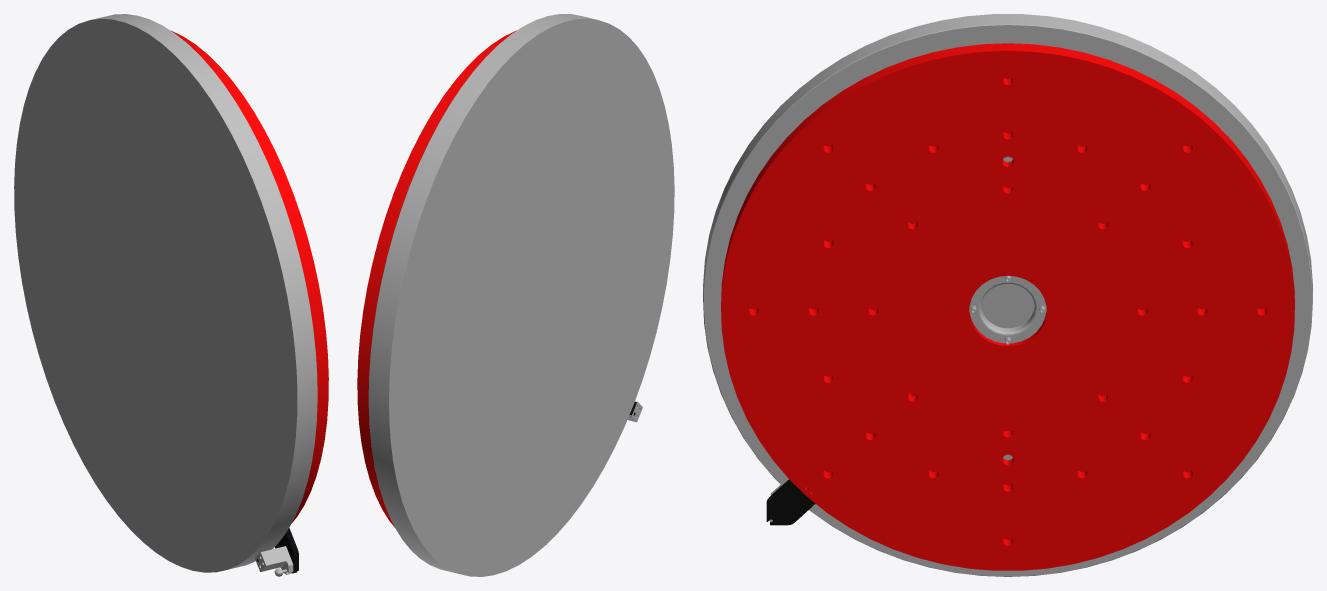
The model's file is Driver_Faceplate_P3.dae.
3 views of the same model, side by side, from view 1: azimuth 30°, elevation 25°; view 2: azimuth 150°, elevation 25°; view 3: azimuth 270°, elevation 25° (orthographic). The views are drawn at different scales.
Parts seen in each view (by area): view 1: Node_0000018E1A3D43C0 (×3); view 2: Node_0000018E1A3D43C0 (×2); view 3: Node_0000018E1A3D43C0 (×3).
Part boxes in pixels (left/top/right/bottom): Node_0000018E1A3D43C0 (×3): left=14, top=14, right=328, bottom=576; Node_0000018E1A3D43C0 (×2): left=357, top=14, right=674, bottom=576; Node_0000018E1A3D43C0 (×3): left=703, top=14, right=1312, bottom=576.
Bounding box in the file's own units: 0.0834 × 1.02 × 1.02.
